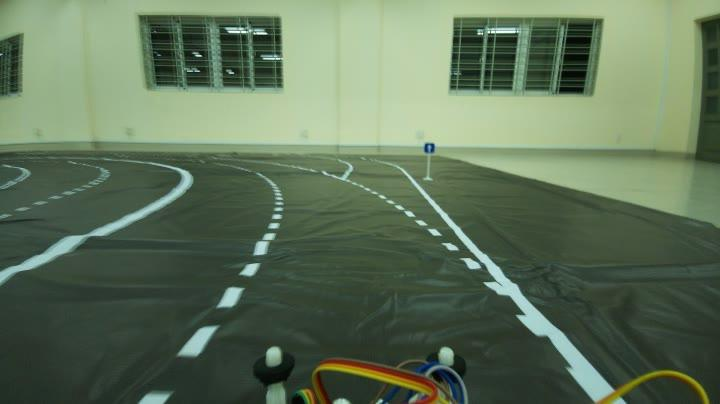onewayroad: (420, 136, 438, 160)
